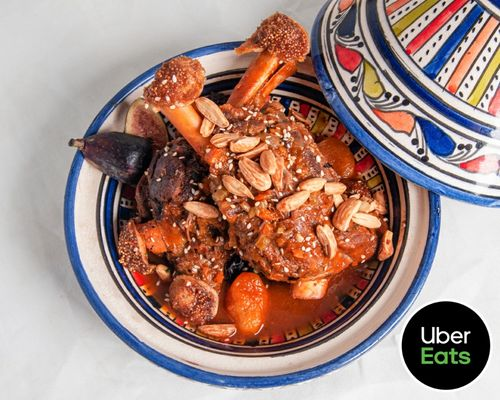sushi: (83, 8, 427, 379), (312, 0, 500, 208)
